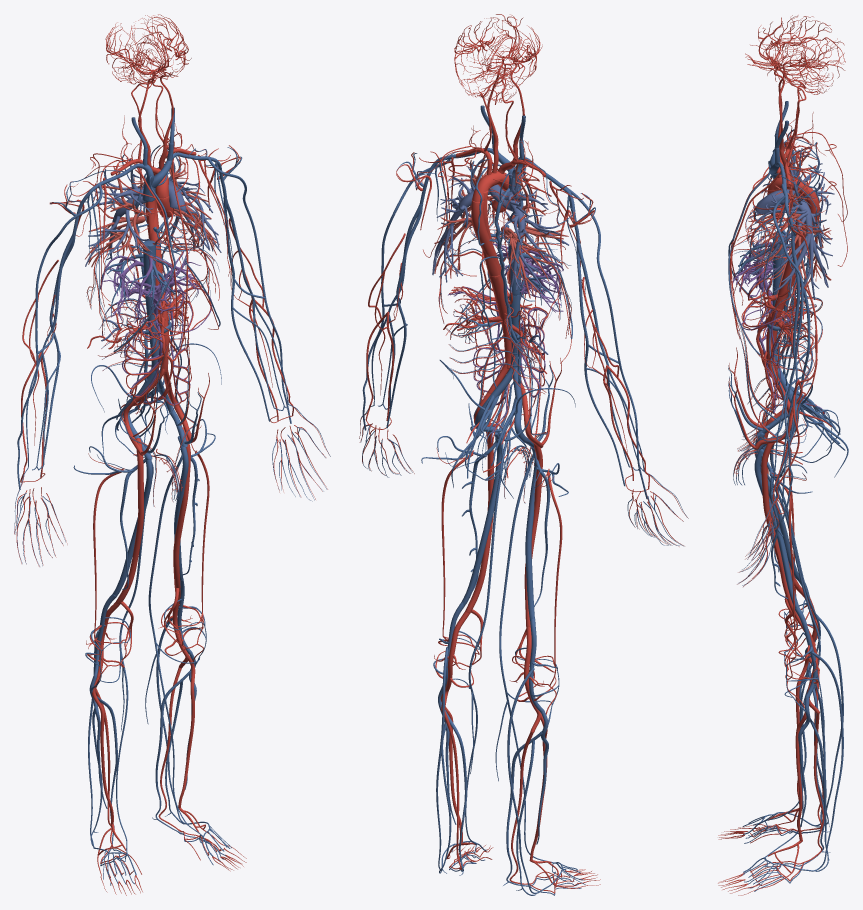
File: vessels.glb
The picture shows the model from 3 angles, left to right: view 1: azimuth 30°, elevation 25°; view 2: azimuth 150°, elevation 25°; view 3: azimuth 270°, elevation 25°; orthographic projection. The views are drawn at different scales.
Parts seen in each view (by area): view 1: Systemic arteries, Systemic veins, Portal veins, Pulmonary arteries, Pulmonary veins; view 2: Systemic veins, Systemic arteries, Pulmonary arteries, Portal veins, Pulmonary veins; view 3: Systemic arteries, Systemic veins, Pulmonary arteries, Portal veins, Pulmonary veins.
Part boxes in pixels (x1,y1,x2,y2): Systemic arteries: [14, 14, 328, 895]; Systemic veins: [14, 107, 330, 885]; Portal veins: [100, 251, 212, 404]; Pulmonary arteries: [85, 149, 221, 341]; Pulmonary veins: [85, 156, 219, 267]; Systemic veins: [359, 105, 688, 895]; Systemic arteries: [359, 14, 687, 893]; Pulmonary arteries: [432, 156, 568, 354]; Portal veins: [448, 243, 564, 442]; Pulmonary veins: [434, 152, 568, 298]; Systemic arteries: [718, 15, 847, 895]; Systemic veins: [728, 101, 848, 891]; Pulmonary arteries: [748, 148, 834, 310]; Portal veins: [732, 236, 825, 413]; Pulmonary veins: [750, 151, 831, 298].
Bounding box in the file's own units: 673 × 1704 × 240.
